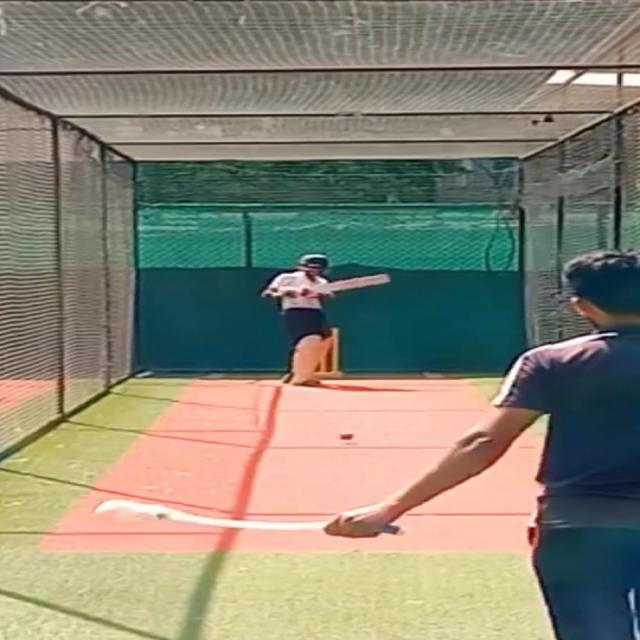ball: (340, 431, 358, 441)
stump: (319, 326, 345, 380)
